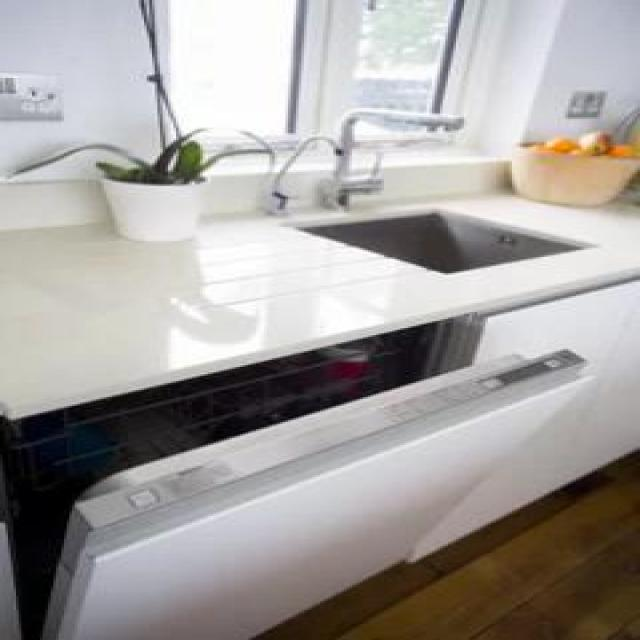dishwasher: (0, 294, 603, 638)
